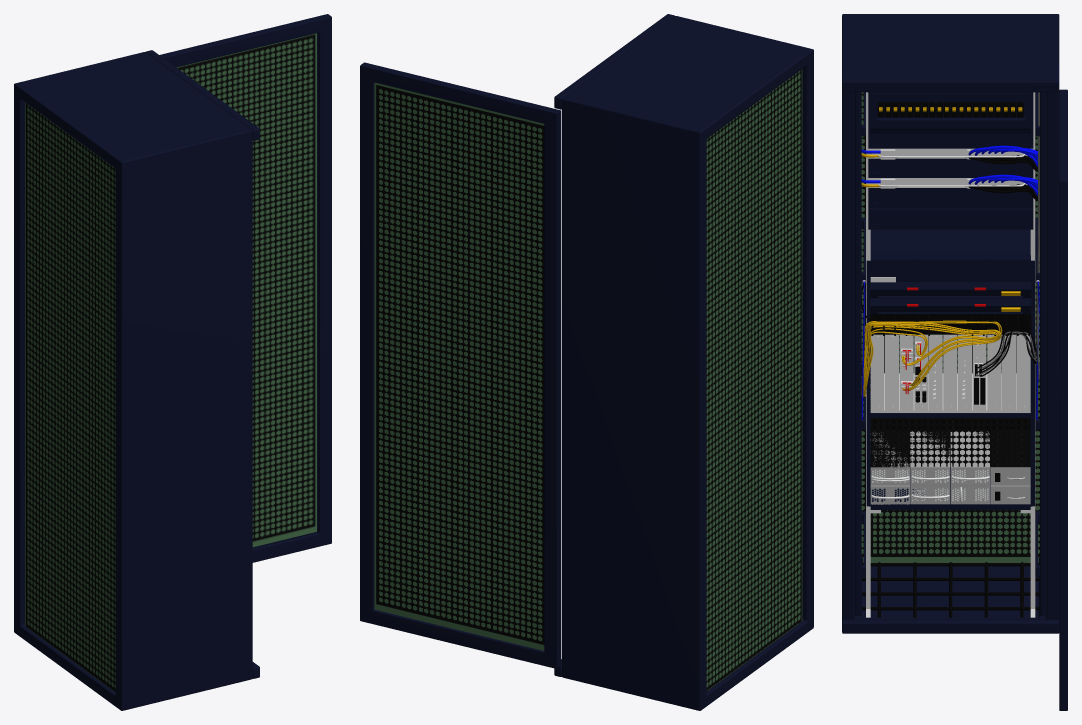
Rendered from rak fiber optic.fbx.
3 views of the same model, side by side, from view 1: azimuth 30°, elevation 25°; view 2: azimuth 150°, elevation 25°; view 3: azimuth 270°, elevation 25° (orthographic). The views are drawn at different scales.
Parts seen in each view (by area): view 1: Cube, Cube.045, Cube.055, Cube.044; view 2: Cube, Cube.055, Cube.045, Cube.044; view 3: Cube, Cube.045, Cube.017, Cube.044, Cube.039, Cube.013, Cube.054, Cube.003, Cylinder, Cube.004, Cube.035, Cube.033 (+39 smaller).
Boxes of the visible parts, x1,y1,x2,y2 form: Cube: [14, 50, 259, 710]; Cube.045: [25, 102, 115, 692]; Cube.055: [176, 33, 316, 547]; Cube.044: [159, 14, 331, 562]; Cube: [554, 14, 813, 710]; Cube.055: [374, 82, 544, 650]; Cube.045: [706, 69, 802, 690]; Cube.044: [360, 62, 561, 668]; Cube: [842, 14, 1059, 633]; Cube.045: [861, 92, 1039, 562]; Cube.017: [870, 229, 1030, 282]; Cube.044: [1059, 89, 1067, 710]; Cube.039: [870, 92, 1030, 133]; Cube.013: [870, 413, 1030, 467]; Cube.054: [870, 418, 1030, 466]; Cube.003: [868, 208, 1033, 229]; Cylinder: [862, 562, 1039, 617]; Cube.004: [868, 188, 1033, 208]; Cube.035: [868, 158, 1033, 177]; Cube.033: [870, 281, 1031, 298].
Size of the model in its own units: 314 by 516 by 191.
12 materials, 3 textured.
